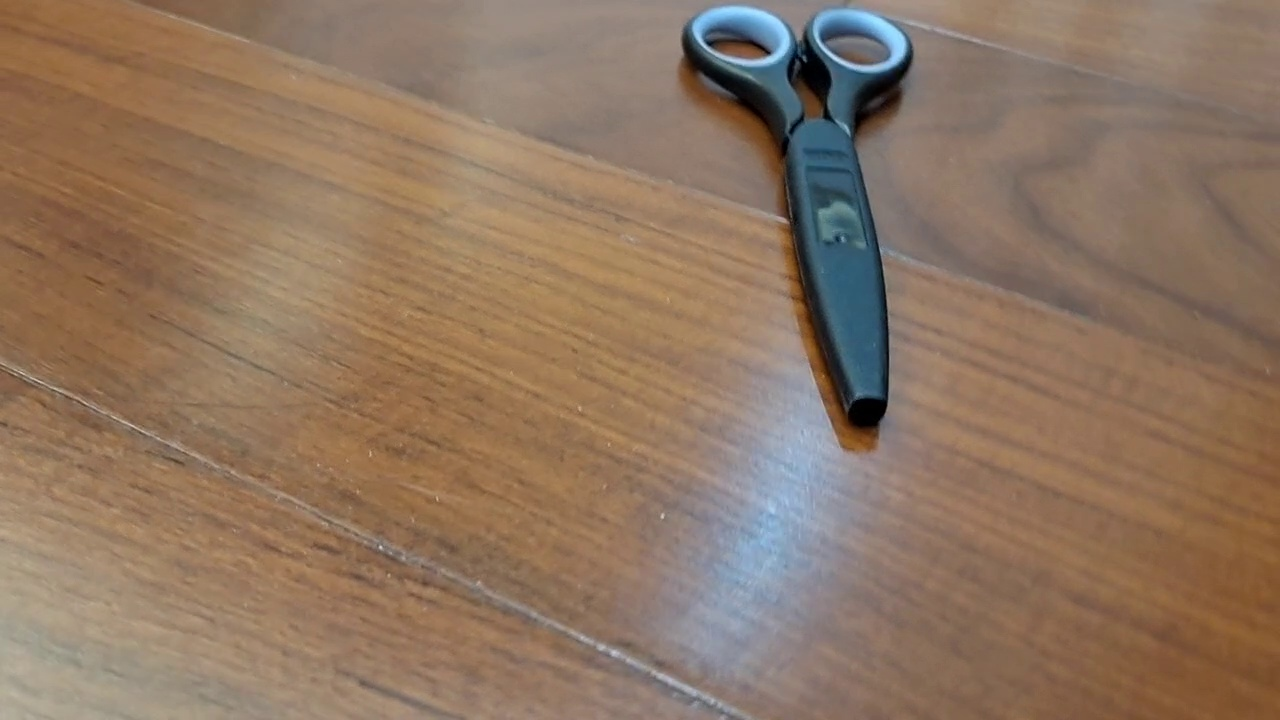scissors: (680, 4, 914, 428)
